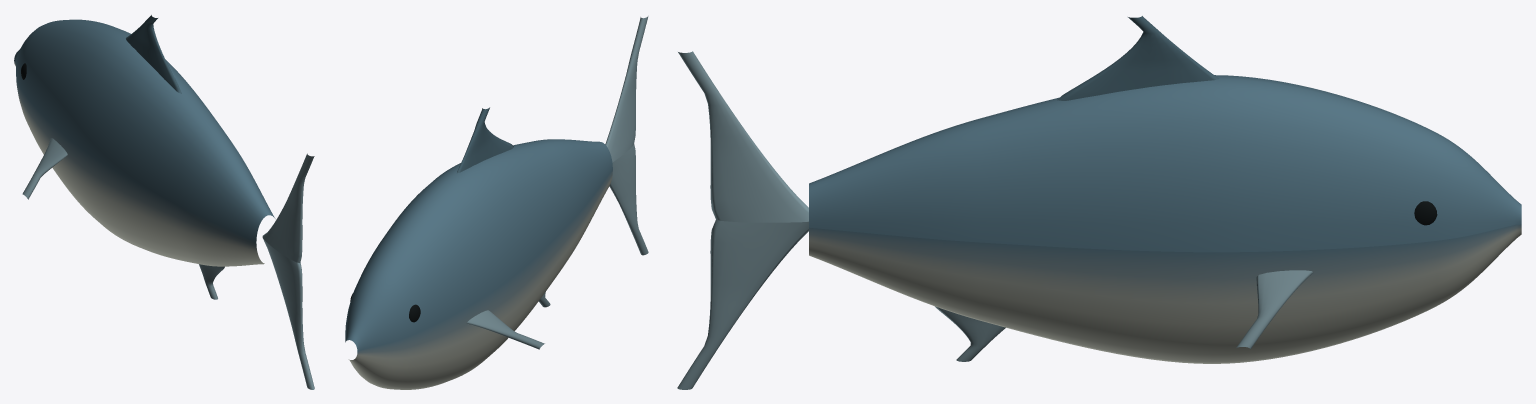
The model's file is fish.glb.
3 renders of one model, left to right at view 1: azimuth 30°, elevation 25°; view 2: azimuth 150°, elevation 25°; view 3: azimuth 270°, elevation 25°, orthographic. The views are drawn at different scales.
Visible parts, largest first — view 1: FishBodyAssembly, FishFinTailUpperAssembly; view 2: FishBodyAssembly, FishFinTailUpperAssembly; view 3: FishBodyAssembly, FishFinTailUpperAssembly.
Boxes of the visible parts, left/top/right/bottom form: FishBodyAssembly: left=14, top=15, right=275, bottom=299; FishFinTailUpperAssembly: left=262, top=153, right=314, bottom=389; FishBodyAssembly: left=345, top=107, right=612, bottom=389; FishFinTailUpperAssembly: left=605, top=16, right=648, bottom=255; FishBodyAssembly: left=809, top=16, right=1521, bottom=363; FishFinTailUpperAssembly: left=677, top=51, right=808, bottom=389.
Bounding box in the file's own units: 0.4038 × 0.53 × 1.09.
